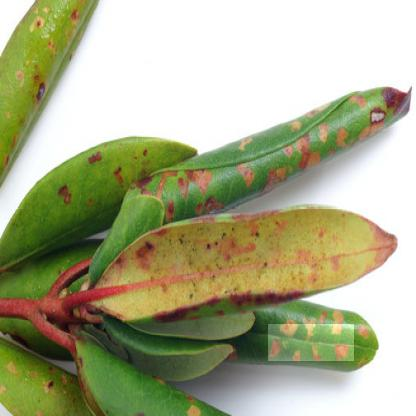black-spot: (268, 324, 354, 361), (343, 102, 386, 131)
